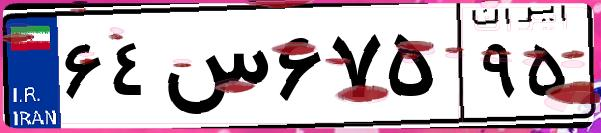4: (110, 28, 158, 98)
5: (385, 28, 445, 110), (525, 38, 570, 115)
6: (270, 28, 330, 110), (57, 26, 110, 100)
7: (330, 28, 385, 110)
9: (475, 38, 525, 113)
س: (158, 20, 270, 120)
